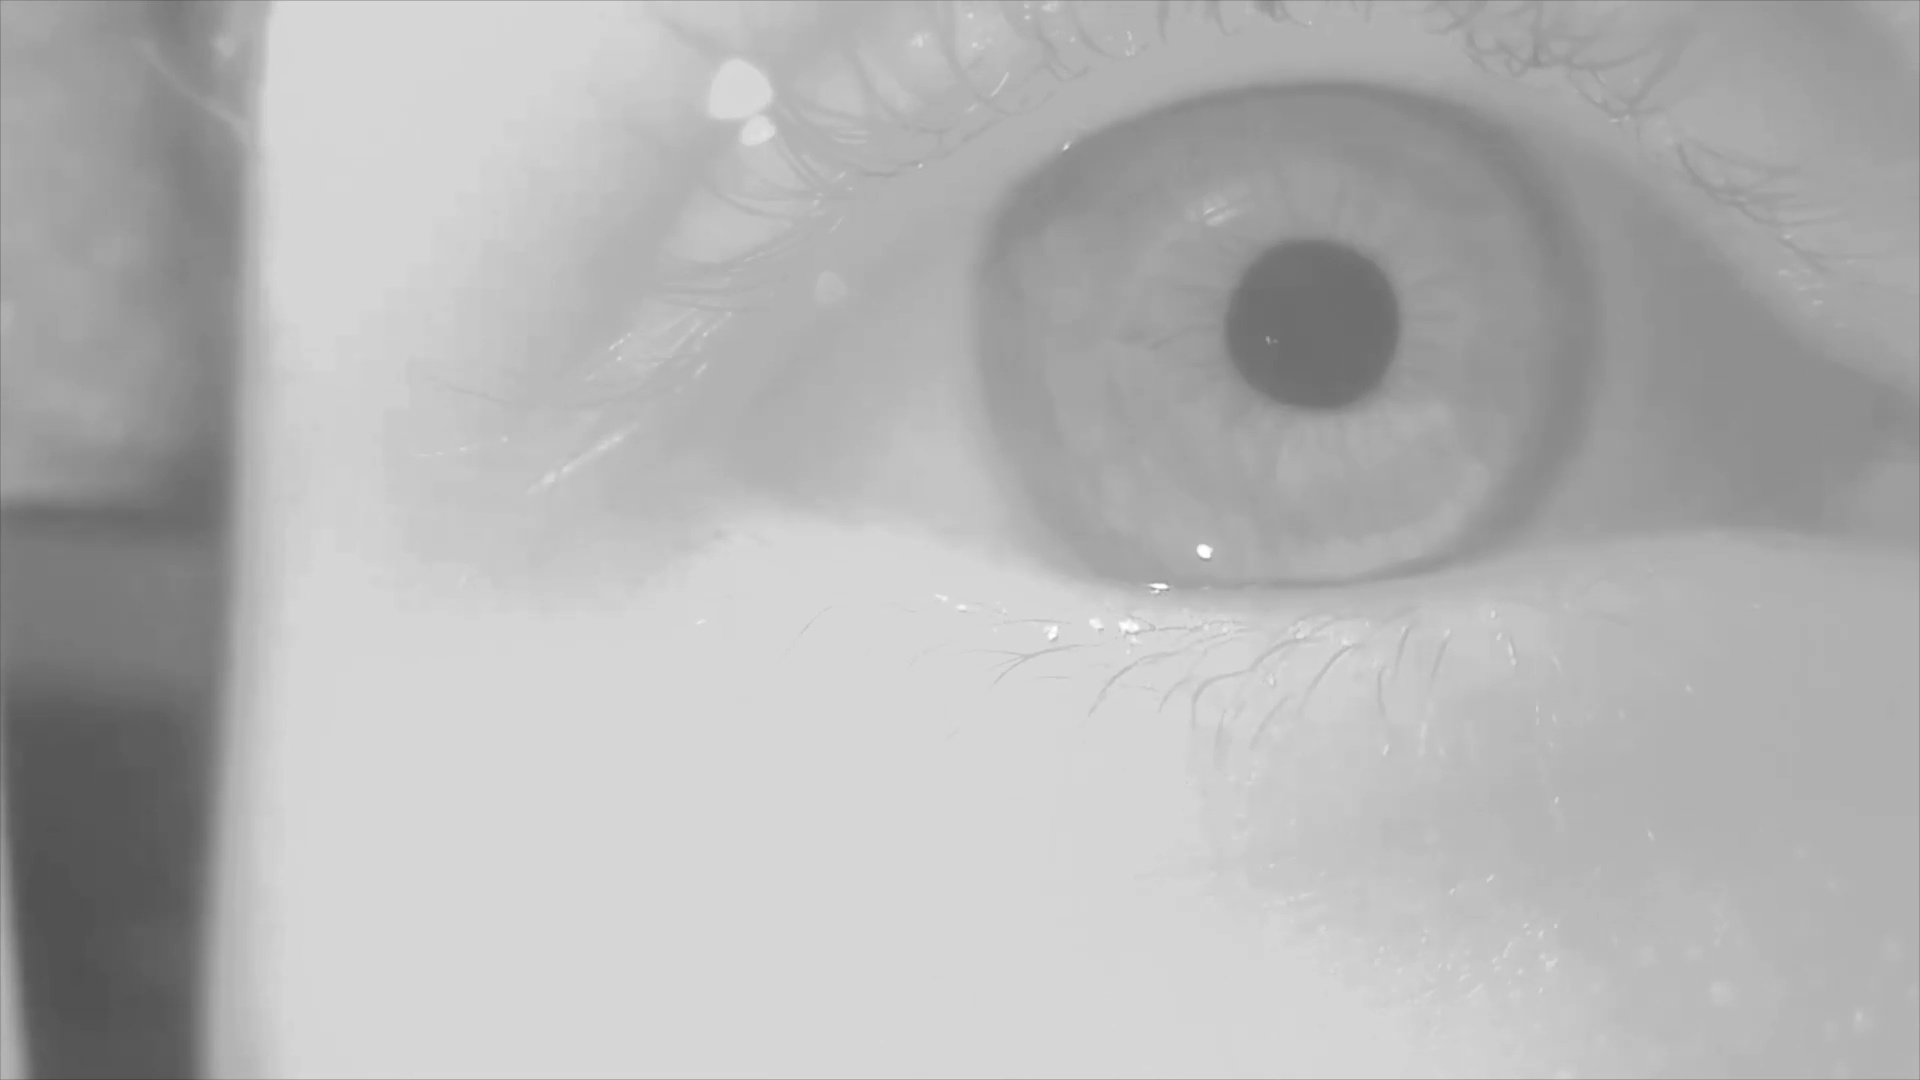pupil: (1230, 247, 1399, 403)
